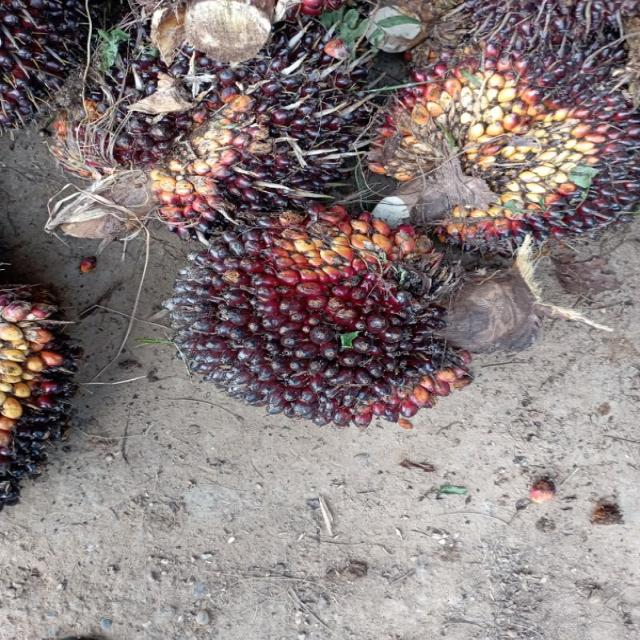fraksi 1: (94, 170, 525, 450)
